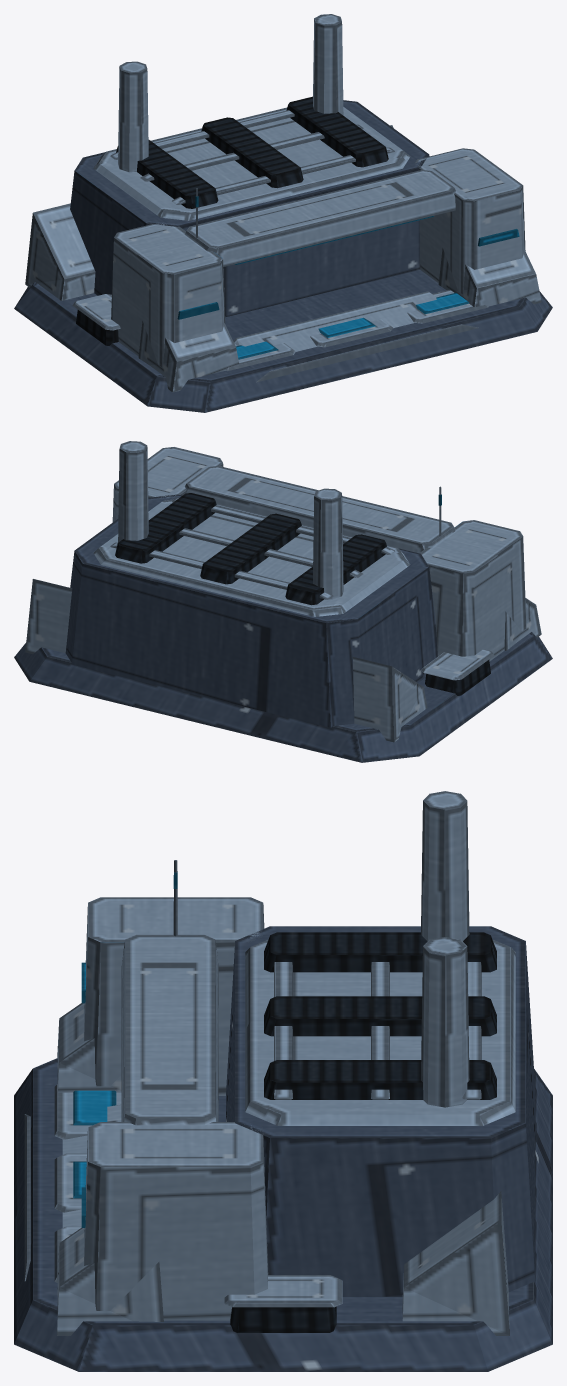
The model's file is building-ordnance.fbx.
3 views of the same model, one above another, from view 1: azimuth 30°, elevation 25°; view 2: azimuth 150°, elevation 25°; view 3: azimuth 270°, elevation 25° (orthographic). The views are drawn at different scales.
Parts seen in each view (by area): view 1: building-ordnance; view 2: building-ordnance; view 3: building-ordnance.
Part boxes in pixels (box(x1,y1,x2,y2)): building-ordnance: box(14, 14, 552, 412); building-ordnance: box(14, 441, 552, 762); building-ordnance: box(14, 791, 552, 1371).
Size of the model in its own units: 2912 by 1550 by 2184.
Materials: 1 (1 with a texture image).
